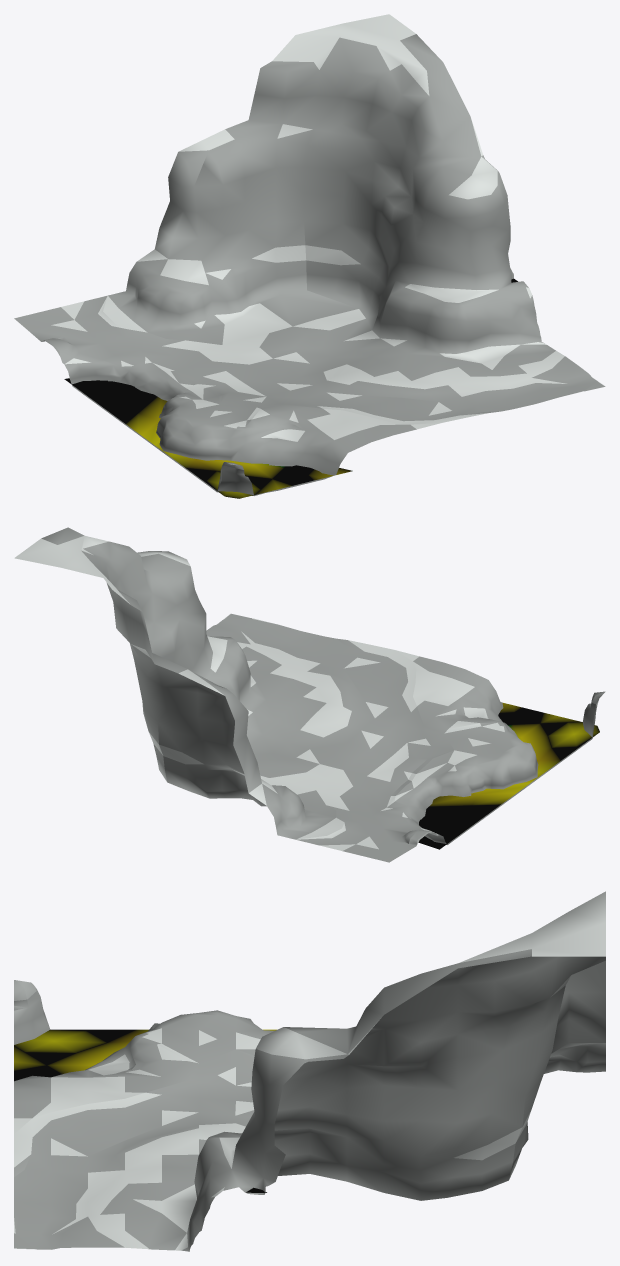
3 views of the same model, one above another, from view 1: azimuth 30°, elevation 25°; view 2: azimuth 150°, elevation 25°; view 3: azimuth 270°, elevation 25° (orthographic). The views are drawn at different scales.
Parts seen in each view (by area): view 1: G:\FFXIV-MapTools\exports\f1t2\bg\ffxiv\fst_f1\twn\f1t2\bgpl (×13); view 2: G:\FFXIV-MapTools\exports\f1t2\bg\ffxiv\fst_f1\twn\f1t2\bgpl (×12); view 3: G:\FFXIV-MapTools\exports\f1t2\bg\ffxiv\fst_f1\twn\f1t2\bgpl (×11).
Part boxes in pixels (x1,y1,x2,y2): G:\FFXIV-MapTools\exports\f1t2\bg\ffxiv\fst_f1\twn\f1t2\bgpl (×13): (14, 14, 605, 498); G:\FFXIV-MapTools\exports\f1t2\bg\ffxiv\fst_f1\twn\f1t2\bgpl (×12): (14, 527, 605, 862); G:\FFXIV-MapTools\exports\f1t2\bg\ffxiv\fst_f1\twn\f1t2\bgpl (×11): (14, 891, 605, 1251).
Size of the model in its own units: 64 by 39.15 by 64.
